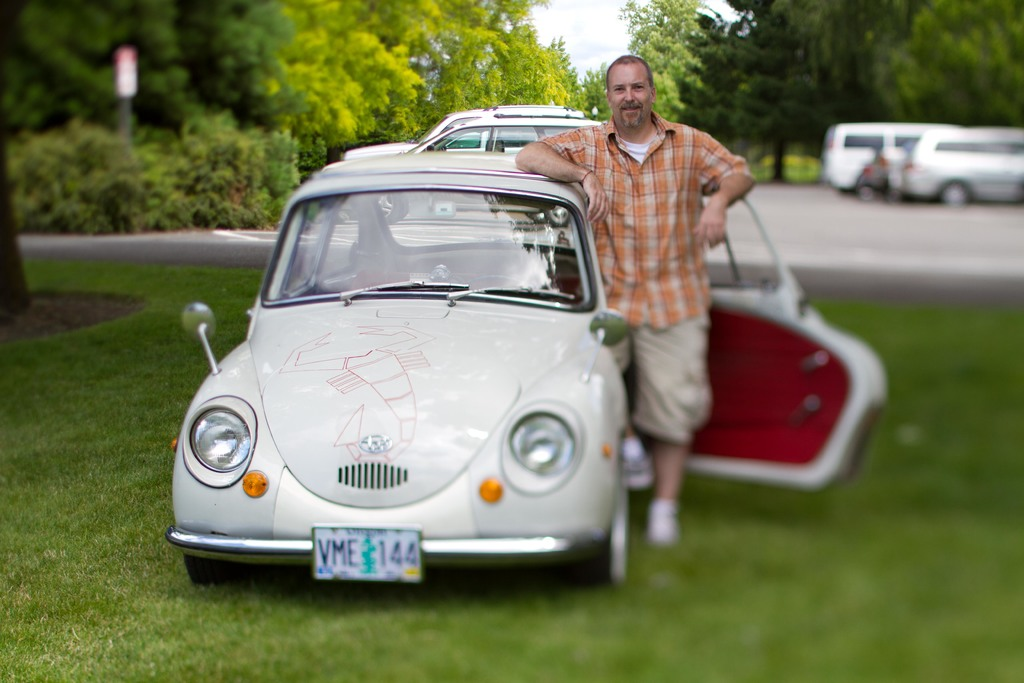Car: (167, 170, 891, 586)
